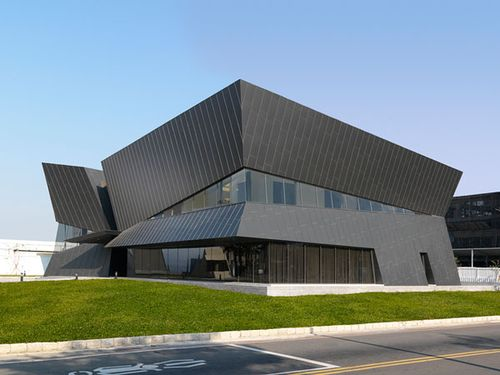buildings: (41, 78, 482, 284)
